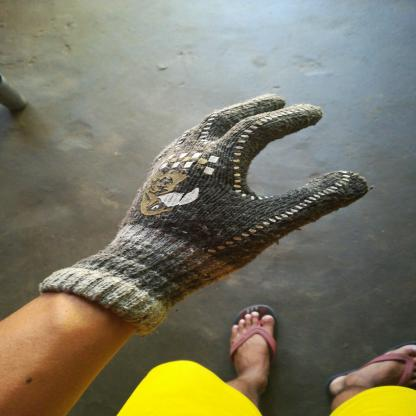gloved_hand: (34, 90, 372, 340)
